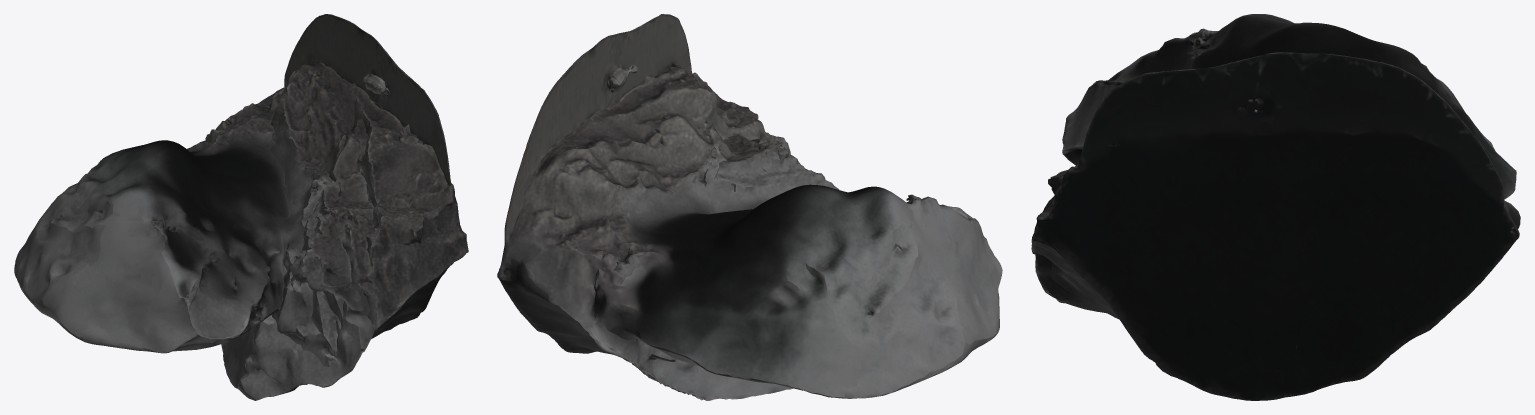
3 views of the same model, side by side, from view 1: azimuth 30°, elevation 25°; view 2: azimuth 150°, elevation 25°; view 3: azimuth 270°, elevation 25° (orthographic). The views are drawn at different scales.
Visible parts, largest first — view 1: world; view 2: world; view 3: world.
Part boxes in pixels (<box>): world: <box>14,14,468,400</box>; world: <box>497,14,1002,400</box>; world: <box>1031,14,1520,400</box>.
Size of the model in its own units: 1.2 by 0.9818 by 1.21.
Materials: 1 (1 with a texture image).
